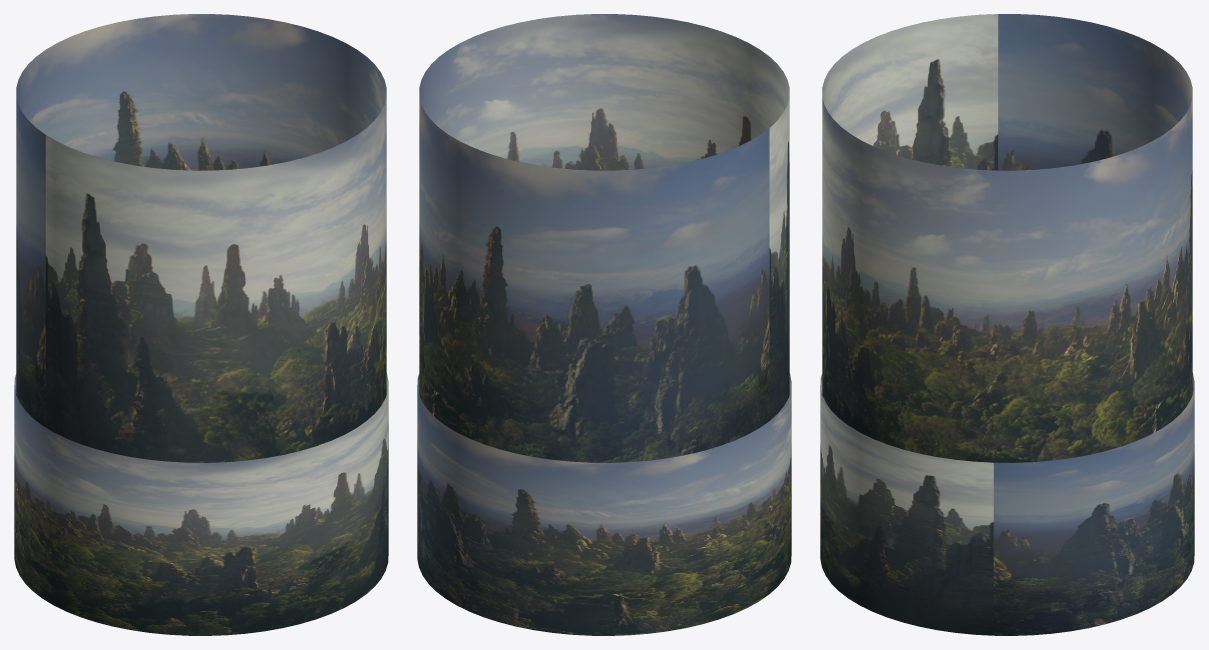
The model's file is env_col_01_arena_01_cin_pre.glb.
The picture shows the model from 3 angles, left to right: view 1: azimuth 30°, elevation 25°; view 2: azimuth 150°, elevation 25°; view 3: azimuth 270°, elevation 25°; orthographic projection.
Visible parts, largest first — view 1: skybox_NEW_clouds, skybox_NEW; view 2: skybox_NEW_clouds, skybox_NEW; view 3: skybox_NEW_clouds, skybox_NEW.
Boxes of the visible parts, <box> form: skybox_NEW_clouds: <box>16,14,386,462</box>; skybox_NEW: <box>14,373,388,635</box>; skybox_NEW_clouds: <box>419,14,789,462</box>; skybox_NEW: <box>417,373,791,635</box>; skybox_NEW_clouds: <box>822,14,1192,462</box>; skybox_NEW: <box>820,373,1194,635</box>.
Bounding box in the file's own units: 939 × 1287 × 939.
Materials: 38 (38 with a texture image).
